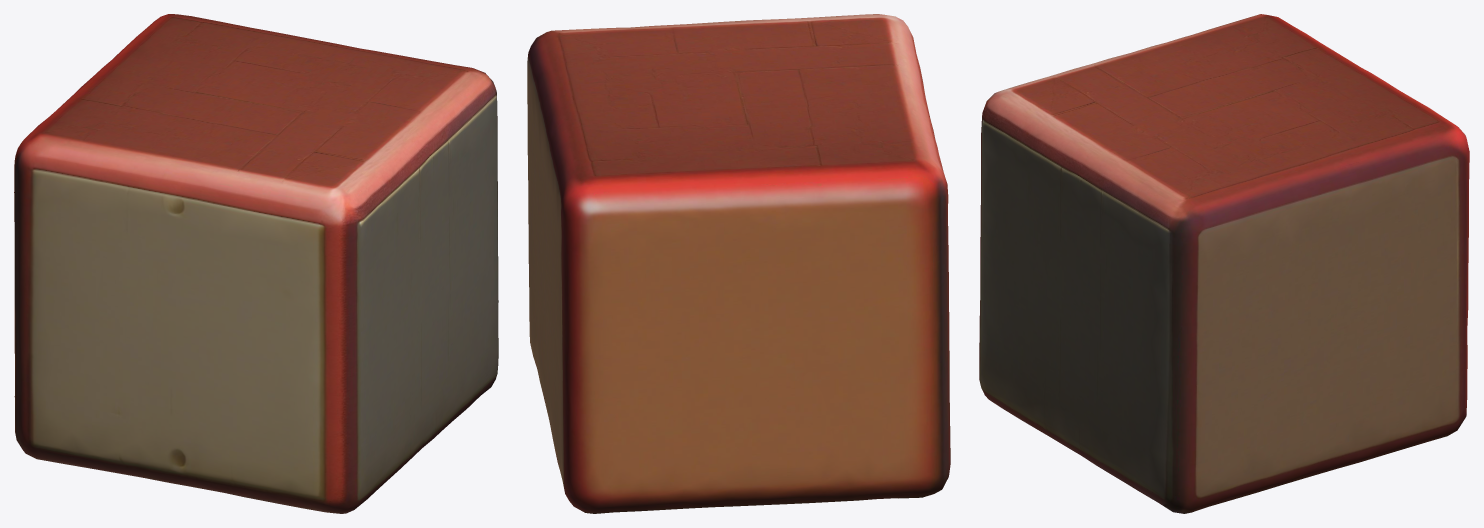
Rendered from wuerfel.glb.
3 views of the same model, side by side, from view 1: azimuth 30°, elevation 25°; view 2: azimuth 150°, elevation 25°; view 3: azimuth 270°, elevation 25° (orthographic). The views are drawn at different scales.
Parts seen in each view (by area): view 1: Mesh1.0; view 2: Mesh1.0; view 3: Mesh1.0.
Part boxes in pixels (left/top/right/bottom): Mesh1.0: left=14, top=14, right=498, bottom=513; Mesh1.0: left=527, top=14, right=950, bottom=513; Mesh1.0: left=979, top=14, right=1469, bottom=513.
Bounding box in the file's own units: 2 × 1.43 × 2.01.
Materials: 1 (1 with a texture image).
